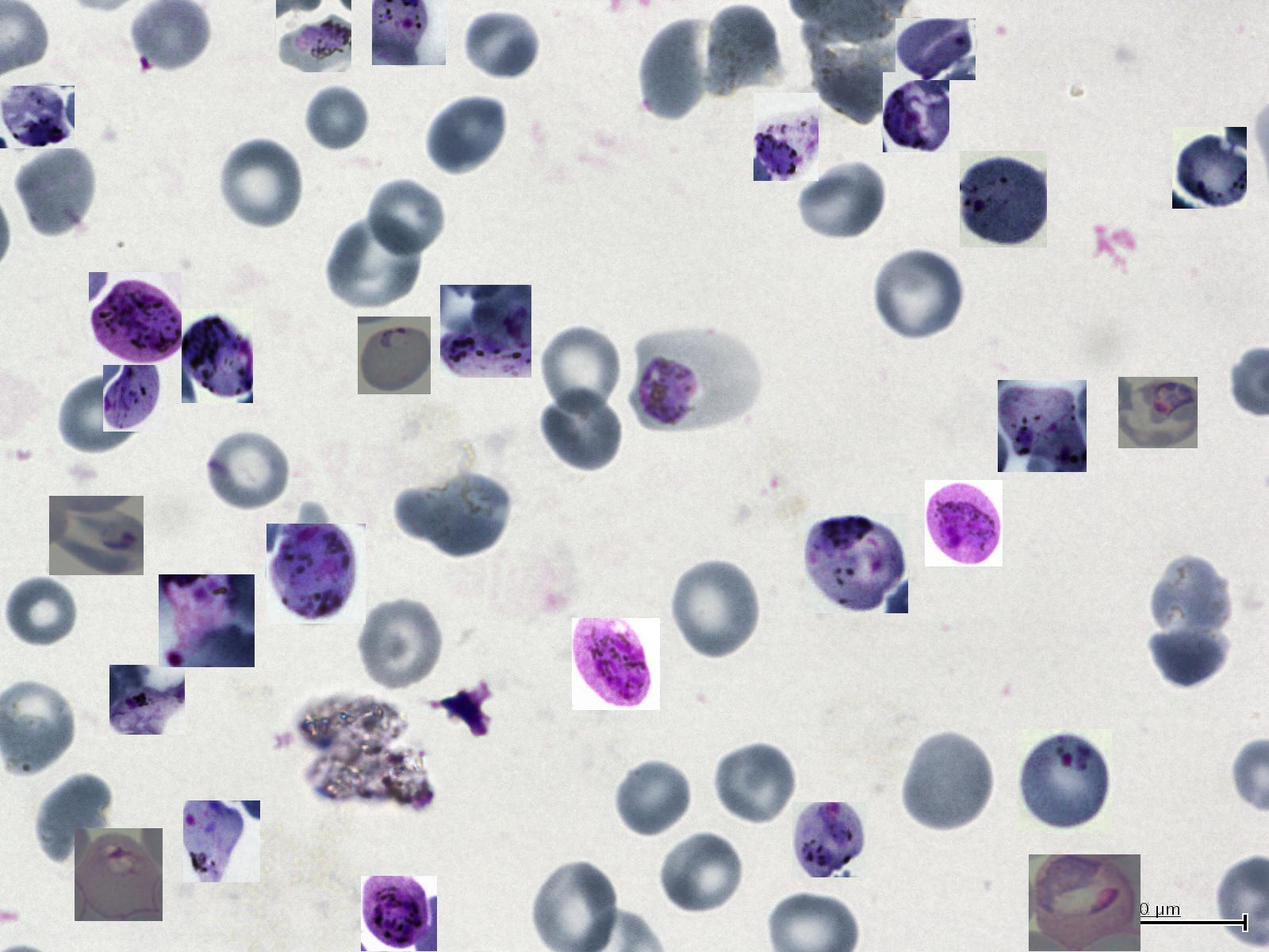Infected: (631, 328, 760, 432), (1029, 854, 1141, 951), (804, 513, 908, 613), (266, 524, 366, 624), (1017, 729, 1112, 833), (159, 574, 255, 667), (89, 272, 182, 365), (440, 285, 531, 378), (960, 151, 1047, 248), (998, 380, 1087, 472), (75, 828, 163, 921), (572, 618, 660, 710), (49, 496, 144, 575), (925, 480, 1003, 566), (182, 309, 253, 403), (183, 800, 260, 882), (1172, 127, 1247, 209), (753, 93, 819, 181), (361, 876, 437, 951), (1118, 377, 1198, 448), (358, 317, 431, 394), (792, 802, 866, 877), (276, 0, 351, 72), (109, 665, 185, 735), (883, 72, 949, 152), (895, 18, 976, 80), (372, 0, 446, 65), (0, 86, 75, 148), (103, 359, 165, 432)
Uninfected: (900, 730, 995, 832), (395, 477, 513, 556), (669, 560, 761, 660), (871, 246, 964, 343), (356, 597, 444, 692), (217, 136, 305, 230), (636, 18, 715, 122), (539, 324, 623, 419), (1151, 560, 1239, 650), (332, 221, 416, 314), (33, 770, 116, 864), (538, 386, 625, 473), (658, 831, 746, 916), (204, 428, 292, 512), (795, 162, 886, 243), (712, 742, 798, 827), (424, 93, 509, 176), (1147, 612, 1232, 693), (364, 178, 447, 258), (20, 148, 95, 235), (814, 50, 902, 124), (613, 758, 692, 837), (704, 7, 778, 89), (2, 573, 79, 651), (57, 377, 138, 450), (130, 2, 209, 71), (299, 83, 374, 154), (465, 13, 539, 78)
